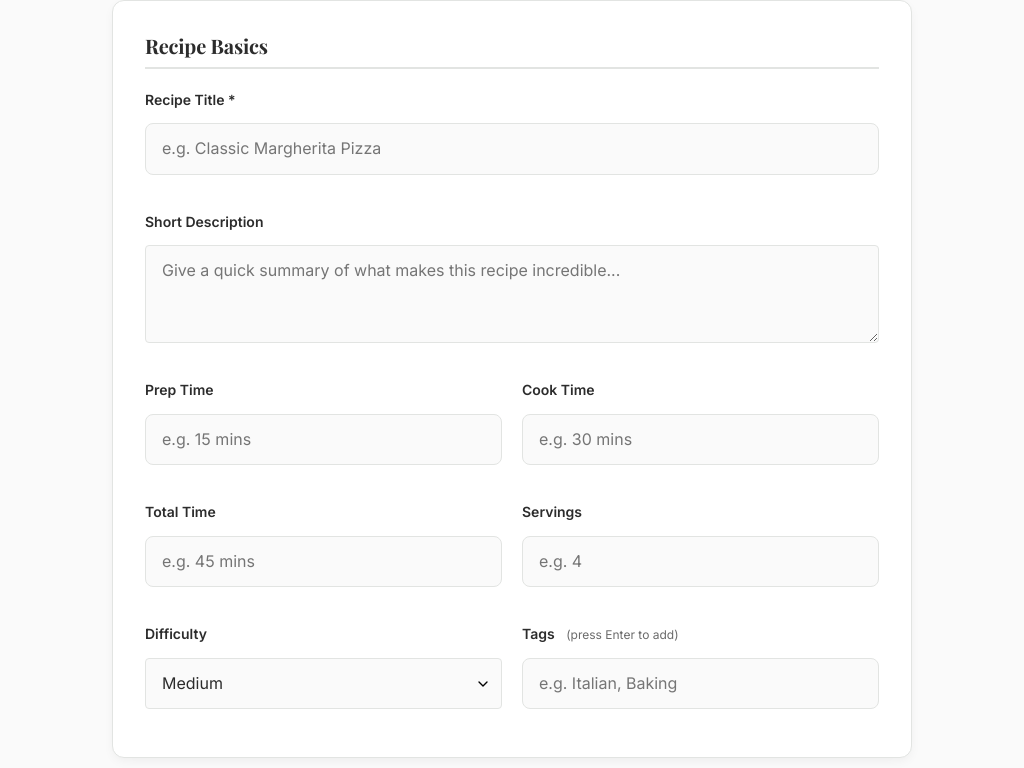
it: ManualRecipeForm Component › automatically calculates total time when prep and cook times change
Type "12 mins" into the field labelled "Prep Time".
click(324, 440); type("12 mins")  # box 145,414 -> 502,465
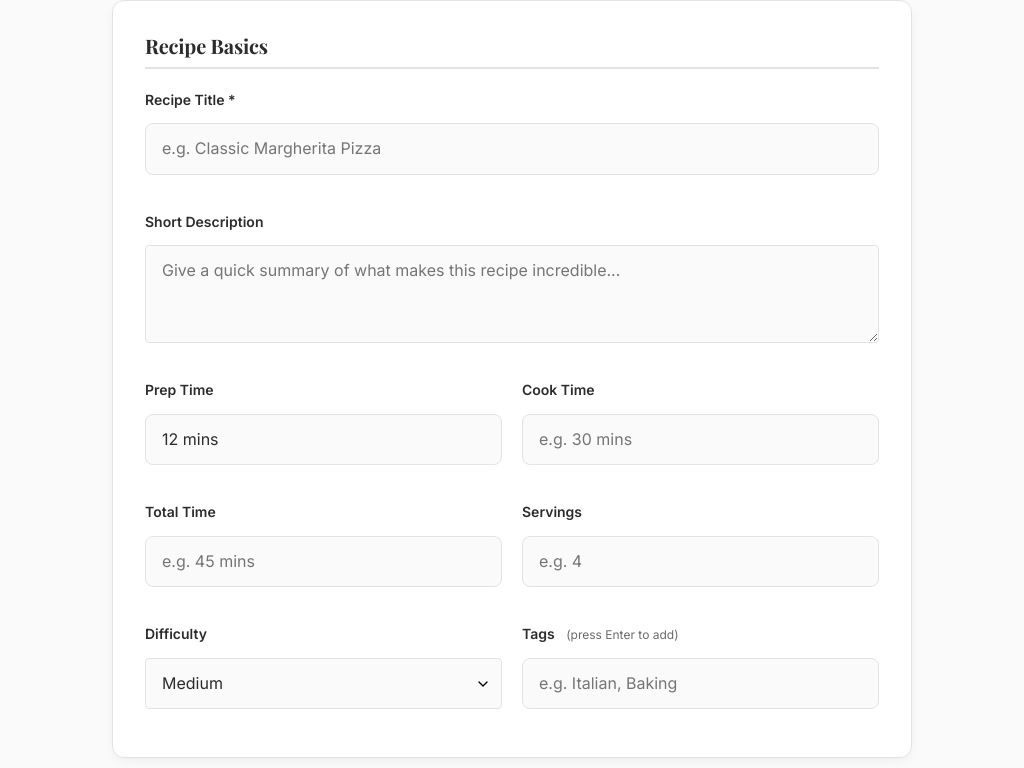
Type "25 mins" into the field labelled "Cook Time".
click(700, 440); type("25 mins")  # box 522,414 -> 879,465
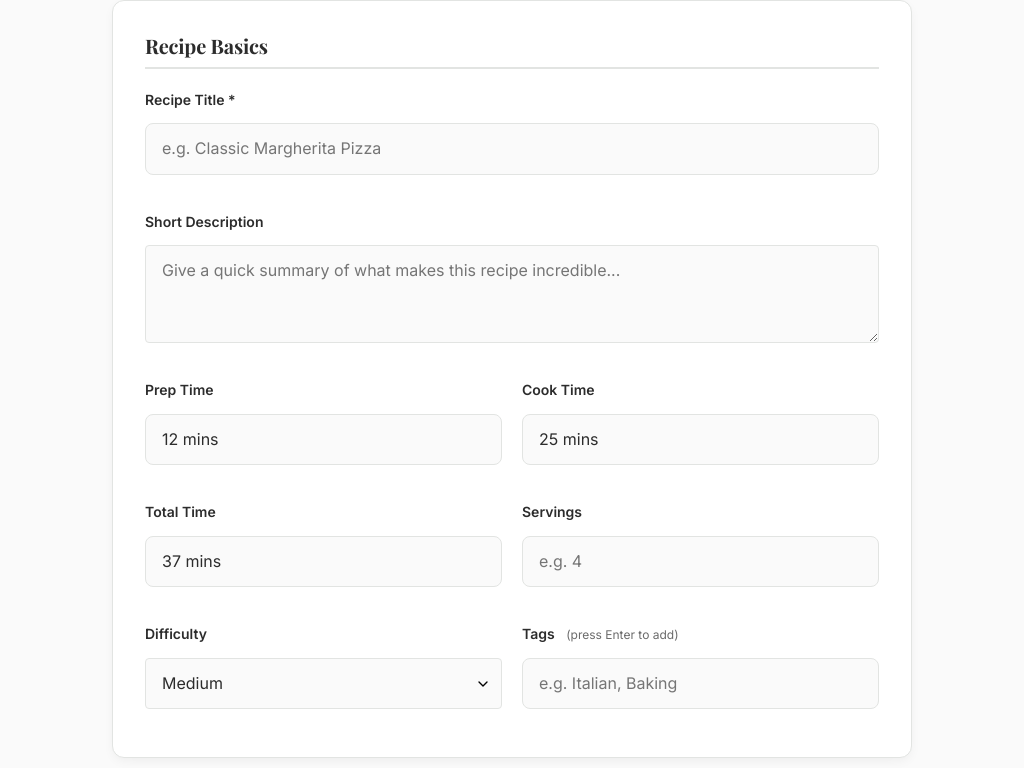
expect the field labelled "Total Time" holds "37 mins": met, box 145,536 -> 502,587
